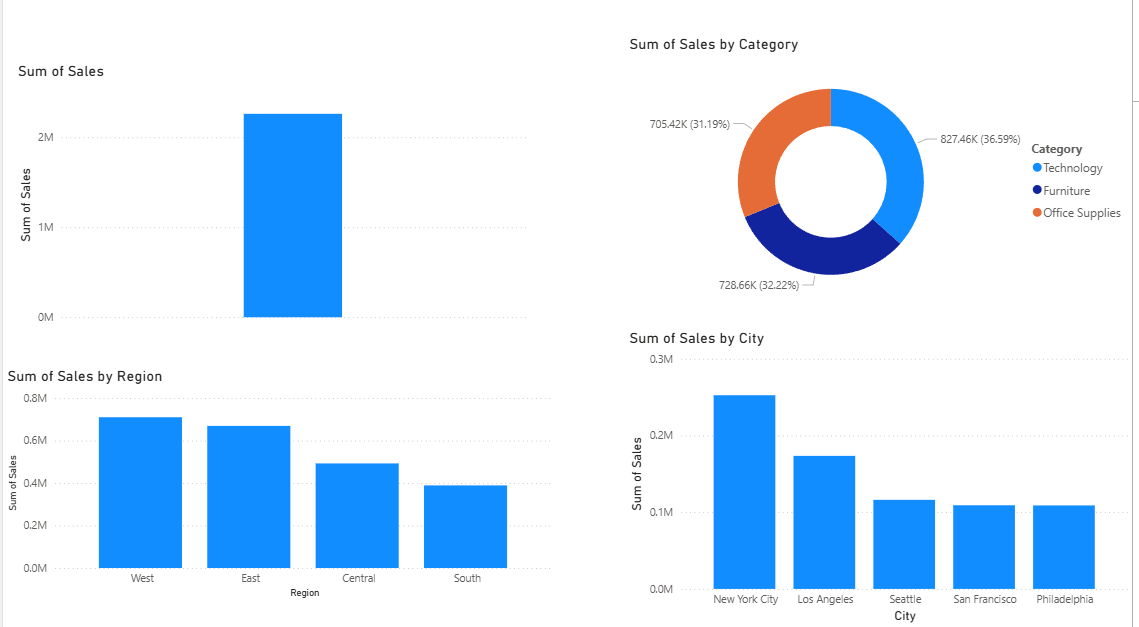

Layout of this report page (visuals, bound fields, positions):
{"tool":"powerbi","page":{"name":"Page 1","canvas":[1280,720],"ordinal":0},"visuals":[{"type":"clusteredColumnChart","fields":{"Y":["Sum(train.Sales)"]},"box":[11.9,78.8,589,303.4],"z":5000},{"type":"columnChart","fields":{"Category":["train.Region"],"Y":["Sum(train.Sales)"]},"box":[0,425.4,629.2,266.2],"z":5001},{"type":"donutChart","fields":{"Y":["Sum(train.Sales)"],"Category":["train.Category"]},"box":[705,49.1,575.6,310.9],"z":5002},{"type":"clusteredColumnChart","fields":{"Category":["train.City"],"Y":["Sum(train.Sales)"]},"box":[705,382.3,575.6,337.6],"z":5003}]}

Visuals, with their boxes in screenshot pixels (x1, y1, x2, y2), scaled from the page's 1280x720 canvas onto the 1139x627 screenshot:
clusteredColumnChart - Sum(train.Sales): <region>11, 69, 535, 333</region>
columnChart - train.Region x Sum(train.Sales): <region>0, 370, 560, 602</region>
donutChart - Sum(train.Sales) x train.Category: <region>627, 43, 1138, 314</region>
clusteredColumnChart - train.City x Sum(train.Sales): <region>627, 333, 1138, 626</region>
